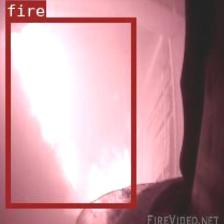fire: (5, 16, 134, 207)
